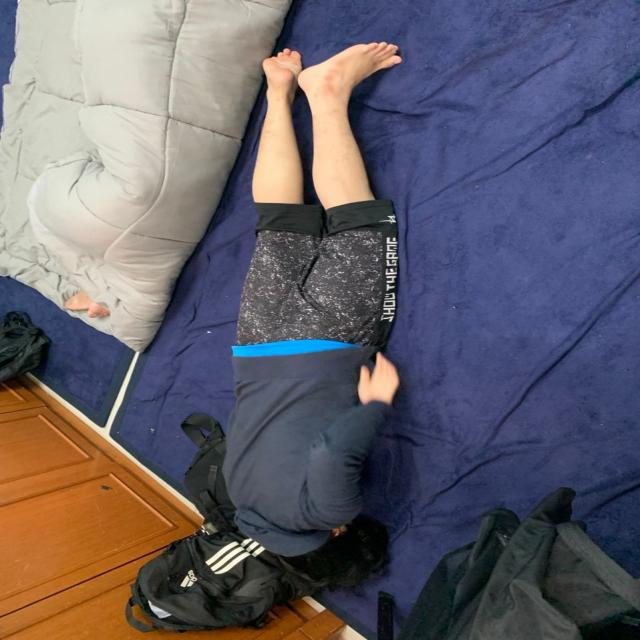Fall-Detected: (218, 41, 408, 584)
